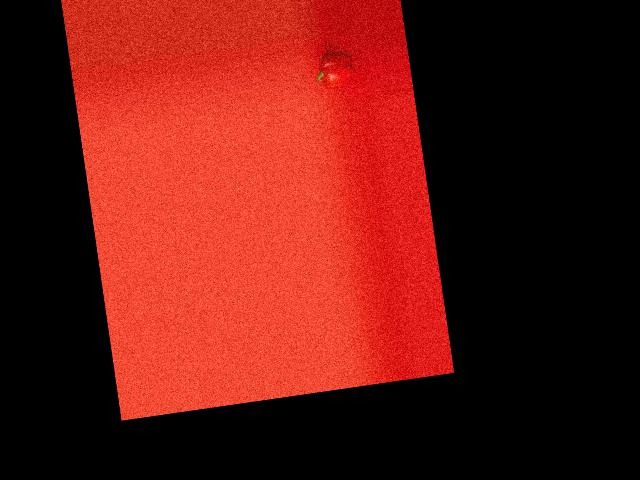bell_pepper: (312, 47, 358, 89)
